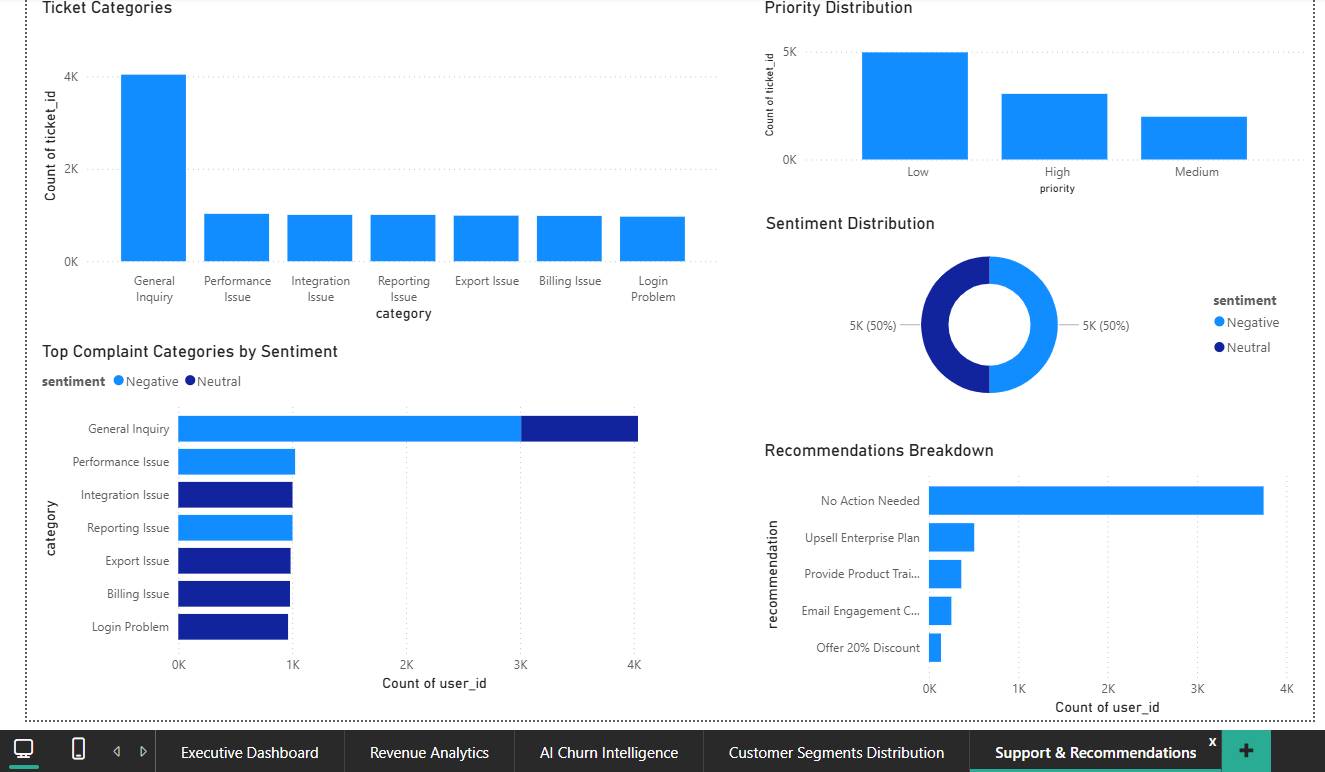

The dashboard page shown, as its layout file describes it:
{"tool":"powerbi","page":{"name":"Support & Recommendations","canvas":[1280,720],"ordinal":4},"visuals":[{"type":"columnChart","title":"Ticket Categories","fields":{"Category":["fact_support_ticket_analysis.category"],"Y":["CountNonNull(fact_support_ticket_analysis.ticket_id)"]},"box":[9.6,0,684.7,328],"z":0},{"type":"donutChart","title":"Sentiment Distribution ","fields":{"Category":["fact_support_ticket_analysis.sentiment"],"Y":["Dim_users.Total Users"]},"box":[730,215.4,536.5,203.1],"z":1000},{"type":"columnChart","title":"Priority Distribution","fields":{"Category":["fact_support_ticket_analysis.priority"],"Y":["CountNonNull(fact_support_ticket_analysis.ticket_id)"]},"box":[728.6,0,551.6,201.7],"z":2000},{"type":"barChart","title":"Recommendations Breakdown","fields":{"Category":["fact_customer_recommendations.recommendation"],"Y":["CountNonNull(fact_customer_recommendations.user_id)"]},"box":[728.6,440.5,536.5,279.9],"z":2001},{"type":"barChart","title":"Top Complaint Categories by Sentiment","fields":{"Category":["fact_support_ticket_analysis.category"],"Y":["CountNonNull(fact_support_ticket_analysis.user_id)"],"Series":["fact_support_ticket_analysis.sentiment"]},"box":[9.6,341.7,662.8,354],"z":2002}]}

Visuals, with their boxes on the page's 1280x720 design canvas (x1, y1, x2, y2). These are canvas units, not pixel positions in the 1325x772 screenshot, which may show the page scaled, cropped or inside an application window:
"Ticket Categories" columnChart: (x1=10, y1=0, x2=694, y2=328)
"Sentiment Distribution " donutChart: (x1=730, y1=215, x2=1266, y2=418)
"Priority Distribution" columnChart: (x1=729, y1=0, x2=1280, y2=202)
"Recommendations Breakdown" barChart: (x1=729, y1=440, x2=1265, y2=720)
"Top Complaint Categories by Sentiment" barChart: (x1=10, y1=342, x2=672, y2=696)
